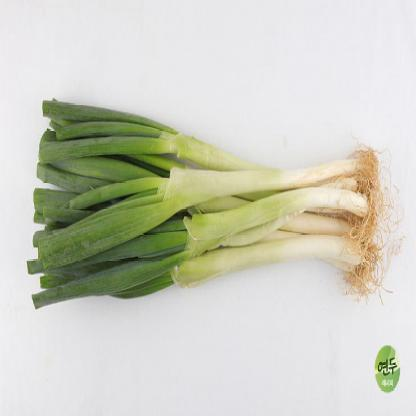green onion: (16, 86, 396, 304), (23, 143, 380, 258)
